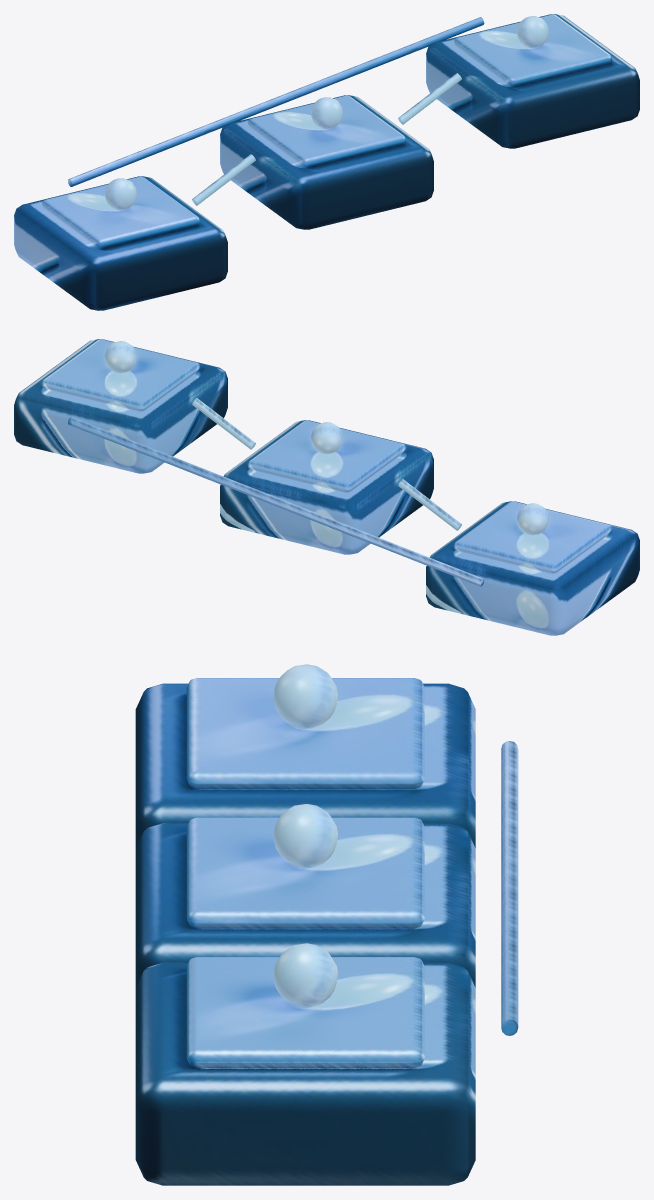
Rendered from workflow-hero.glb.
The picture shows the model from 3 angles, top to bottom: view 1: azimuth 30°, elevation 25°; view 2: azimuth 150°, elevation 25°; view 3: azimuth 270°, elevation 25°; orthographic projection. The views are drawn at different scales.
Visible parts, largest first — view 1: Workflow step, Workflow step.001, Workflow step.002, Step signal.002, Step signal.001, Step signal, Cylinder.002, Sphere, Sphere.001, Sphere.002, Cylinder, Cylinder.001; view 2: Workflow step, Workflow step.002, Workflow step.001, Step signal.002, Step signal, Step signal.001, Cylinder.002, Sphere.001, Sphere.002, Sphere, Cylinder, Cylinder.001; view 3: Workflow step.002, Step signal.001, Step signal.002, Step signal, Workflow step.001, Workflow step, Cylinder.002, Sphere, Sphere.001, Sphere.002.
Boxes of the visible parts, x1,y1,x2,y2 form: Workflow step: (14, 176, 227, 310); Workflow step.001: (220, 95, 433, 229); Workflow step.002: (426, 14, 639, 148); Step signal.002: (454, 14, 612, 86); Step signal.001: (248, 95, 405, 167); Step signal: (42, 176, 199, 248); Cylinder.002: (68, 17, 484, 186); Sphere: (105, 178, 136, 210); Sphere.001: (311, 97, 342, 129); Sphere.002: (517, 16, 549, 48); Cylinder: (192, 154, 255, 205); Cylinder.001: (398, 73, 461, 124); Workflow step: (426, 501, 639, 635); Workflow step.002: (14, 339, 227, 473); Workflow step.001: (220, 420, 433, 554); Step signal.002: (41, 339, 199, 411); Step signal: (454, 501, 611, 573); Step signal.001: (248, 420, 405, 492); Cylinder.002: (68, 416, 484, 586); Sphere.001: (310, 422, 342, 454); Sphere.002: (104, 341, 136, 373); Sphere: (517, 503, 548, 535); Cylinder: (398, 479, 461, 530); Cylinder.001: (192, 398, 255, 449); Workflow step.002: (135, 962, 475, 1185); Step signal.001: (186, 817, 424, 928); Step signal.002: (186, 957, 424, 1067); Step signal: (186, 678, 424, 788); Workflow step.001: (135, 823, 475, 987); Workflow step: (135, 683, 475, 848); Cylinder.002: (501, 741, 518, 1035); Sphere: (273, 664, 337, 728); Sphere.001: (273, 804, 337, 868); Sphere.002: (273, 943, 337, 1007).
Size of the model in its own units: 3.75 by 0.9899 by 1.13.
Materials: 1 (1 with a texture image).
